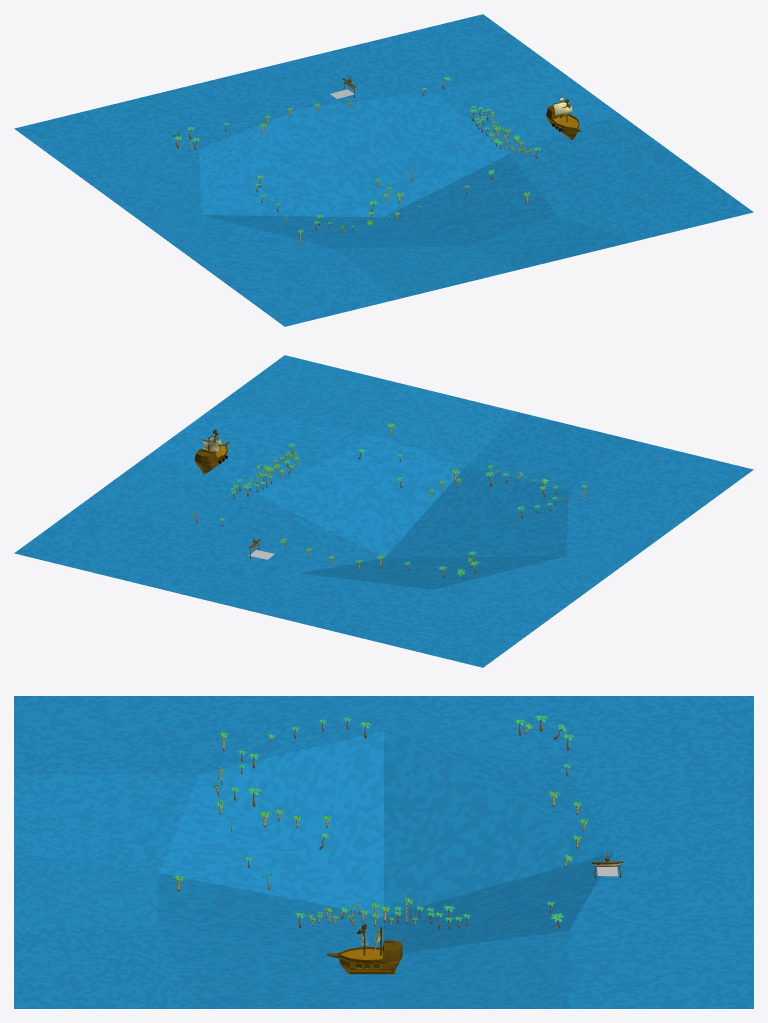
Rendered from elementos.obj.
The picture shows the model from 3 angles, top to bottom: view 1: azimuth 30°, elevation 25°; view 2: azimuth 150°, elevation 25°; view 3: azimuth 270°, elevation 25°; orthographic projection. The views are drawn at different scales.
Visible parts, largest first — view 1: mar_marH, Barco_barcoH; view 2: mar_marH, Barco_barcoH; view 3: mar_marH, Barco_barcoH.
Part boxes in pixels (left/top/right/bottom): mar_marH: left=14, top=14, right=753, bottom=326; Barco_barcoH: left=546, top=97, right=581, bottom=139; mar_marH: left=14, top=355, right=753, bottom=667; Barco_barcoH: left=194, top=429, right=229, bottom=474; mar_marH: left=14, top=696, right=753, bottom=1008; Barco_barcoH: left=327, top=922, right=402, bottom=974.
Size of the model in its own units: 2213 by 368 by 2213.
